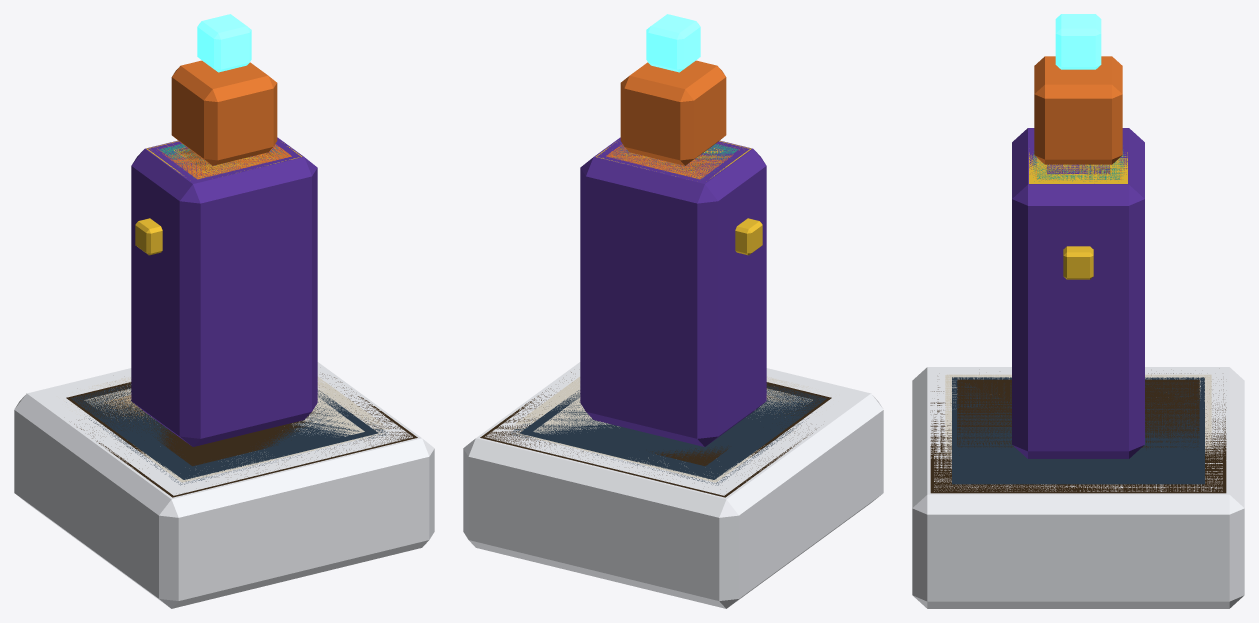
The model's file is flagship_props_021.glb.
3 views of the same model, side by side, from view 1: azimuth 30°, elevation 25°; view 2: azimuth 150°, elevation 25°; view 3: azimuth 270°, elevation 25° (orthographic). The views are drawn at different scales.
Visible parts, largest first — view 1: Prop_BBIsle_Statue_05, Prop_BBIsle_Statue_01, Prop_BBIsle_Statue_10, Prop_BBIsle_Statue_11, Prop_BBIsle_Statue_07, Prop_BBIsle_Statue_02, Prop_BBIsle_Statue_06, Prop_BBIsle_Statue_13, Prop_BBIsle_Statue_12, Prop_BBIsle_Statue_03, Prop_BBIsle_Statue_08; view 2: Prop_BBIsle_Statue_05, Prop_BBIsle_Statue_01, Prop_BBIsle_Statue_11, Prop_BBIsle_Statue_10, Prop_BBIsle_Statue_06, Prop_BBIsle_Statue_02, Prop_BBIsle_Statue_12, Prop_BBIsle_Statue_13, Prop_BBIsle_Statue_03, Prop_BBIsle_Statue_08, Prop_BBIsle_Statue_07; view 3: Prop_BBIsle_Statue_05, Prop_BBIsle_Statue_06, Prop_BBIsle_Statue_01, Prop_BBIsle_Statue_02, Prop_BBIsle_Statue_11, Prop_BBIsle_Statue_12, Prop_BBIsle_Statue_10, Prop_BBIsle_Statue_03, Prop_BBIsle_Statue_08, Prop_BBIsle_Statue_16, Prop_BBIsle_Statue_15.
Part boxes in pixels (box(x1,y1,x2,y2)): Prop_BBIsle_Statue_05: box(14, 137, 434, 608); Prop_BBIsle_Statue_01: box(140, 14, 277, 479); Prop_BBIsle_Statue_10: box(76, 140, 412, 495); Prop_BBIsle_Statue_11: box(70, 384, 378, 479); Prop_BBIsle_Statue_07: box(151, 147, 319, 466); Prop_BBIsle_Statue_02: box(66, 156, 275, 457); Prop_BBIsle_Statue_06: box(88, 144, 388, 485); Prop_BBIsle_Statue_13: box(84, 146, 364, 436); Prop_BBIsle_Statue_12: box(74, 141, 417, 497); Prop_BBIsle_Statue_03: box(64, 158, 389, 429); Prop_BBIsle_Statue_08: box(135, 144, 382, 482); Prop_BBIsle_Statue_05: box(463, 137, 883, 608); Prop_BBIsle_Statue_01: box(620, 14, 756, 479); Prop_BBIsle_Statue_11: box(519, 383, 826, 476); Prop_BBIsle_Statue_10: box(485, 139, 822, 495); Prop_BBIsle_Statue_06: box(508, 144, 808, 485); Prop_BBIsle_Statue_02: box(636, 162, 831, 460); Prop_BBIsle_Statue_12: box(480, 140, 816, 497); Prop_BBIsle_Statue_13: box(533, 145, 812, 434); Prop_BBIsle_Statue_03: box(508, 158, 827, 430); Prop_BBIsle_Statue_08: box(516, 144, 764, 482); Prop_BBIsle_Statue_07: box(624, 148, 728, 466); Prop_BBIsle_Statue_05: box(912, 128, 1244, 608); Prop_BBIsle_Statue_06: box(952, 158, 1204, 484); Prop_BBIsle_Statue_01: box(1034, 14, 1122, 164); Prop_BBIsle_Statue_02: box(957, 158, 1199, 455); Prop_BBIsle_Statue_11: box(960, 382, 1196, 480); Prop_BBIsle_Statue_12: box(930, 152, 1226, 493); Prop_BBIsle_Statue_10: box(934, 129, 1222, 491); Prop_BBIsle_Statue_03: box(945, 149, 1211, 459); Prop_BBIsle_Statue_08: box(1037, 158, 1119, 179); Prop_BBIsle_Statue_16: box(965, 383, 1191, 438); Prop_BBIsle_Statue_15: box(1047, 164, 1109, 173).
Bounding box in the file's own units: 1.32 × 2.29 × 1.32.
